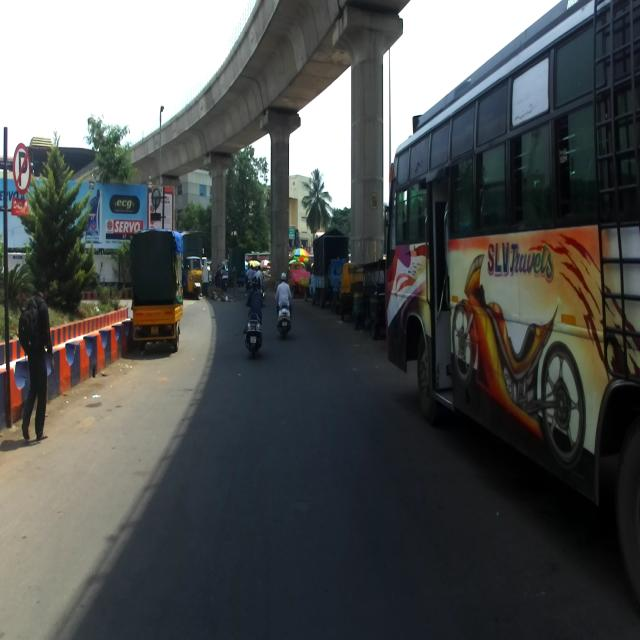auto ahead at: (127, 220, 185, 360)
bus ahead at: (377, 0, 640, 603)
person ahead at: (20, 282, 52, 446)
sign board ahead at: (12, 143, 35, 210)
